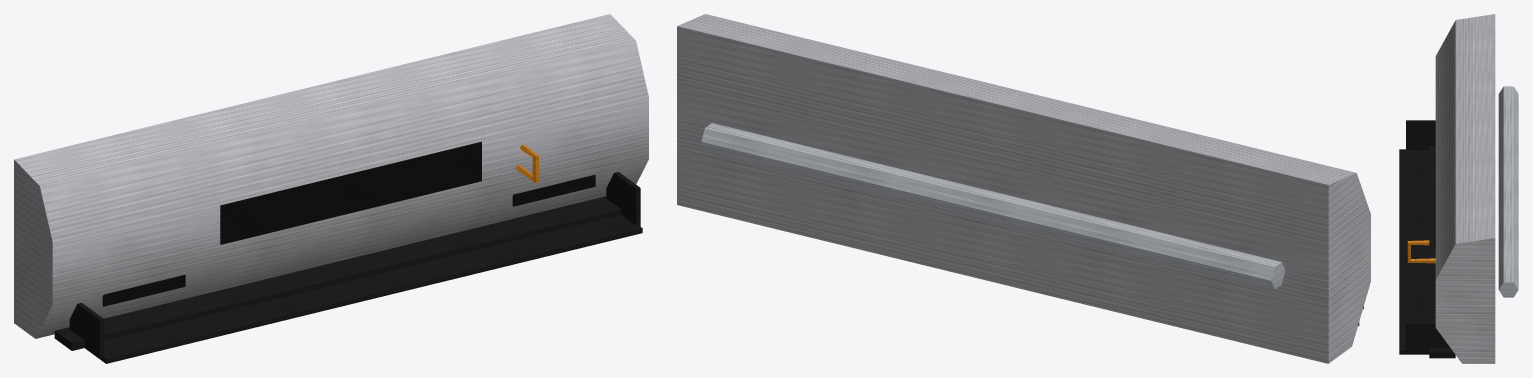
File: para_choque_n3.glb
3 renders of one model, left to right at view 1: azimuth 30°, elevation 25°; view 2: azimuth 150°, elevation 25°; view 3: azimuth 270°, elevation 25°, orthographic. The views are drawn at different scales.
Visible parts, largest first — view 1: para_choque_n3; view 2: para_choque_n3; view 3: para_choque_n3.
Part boxes in pixels (x1,y1,x2,y2): para_choque_n3: [14, 14, 648, 363]; para_choque_n3: [677, 14, 1370, 363]; para_choque_n3: [1399, 14, 1518, 363].
Bounding box in the file's own units: 1.6 × 0.426 × 0.36.
Materials: 2 (2 with a texture image).
